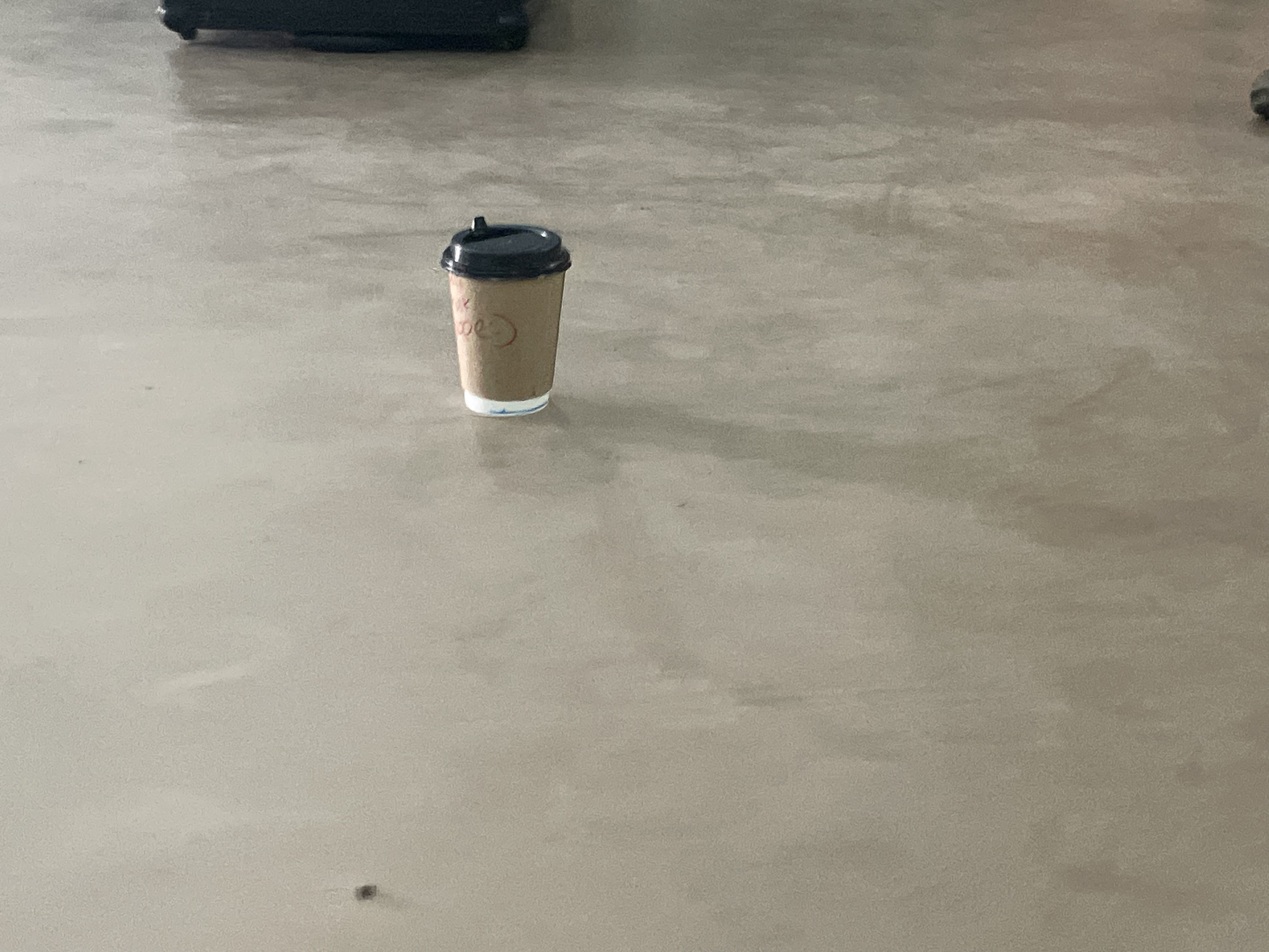cup: (440, 216, 572, 417)
